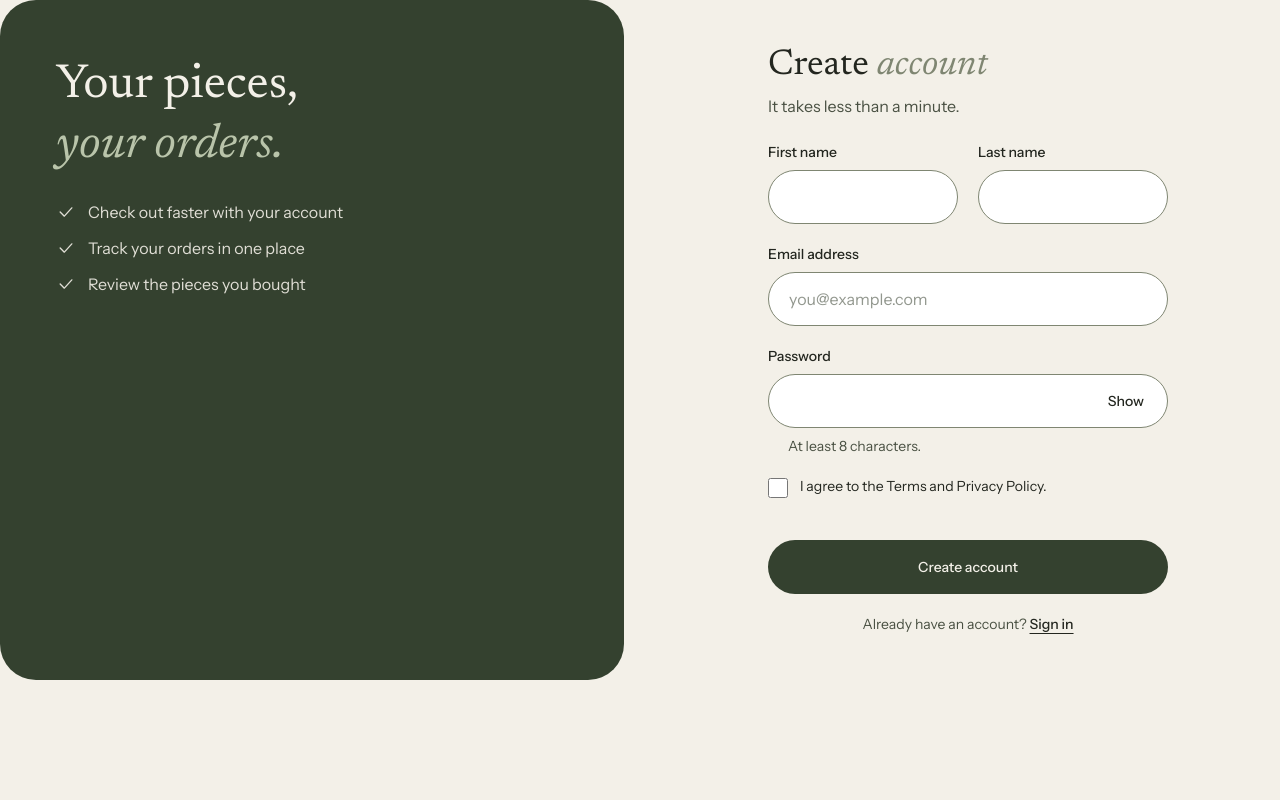
Test: RegisterPage › shows an error for an invalid email, and sends nothing
The width and height of the screenshot is (1280, 800).
Type " Anna " into the field labelled "First name". click: (863, 197)
box: x1=768 y1=170 x2=958 y2=224
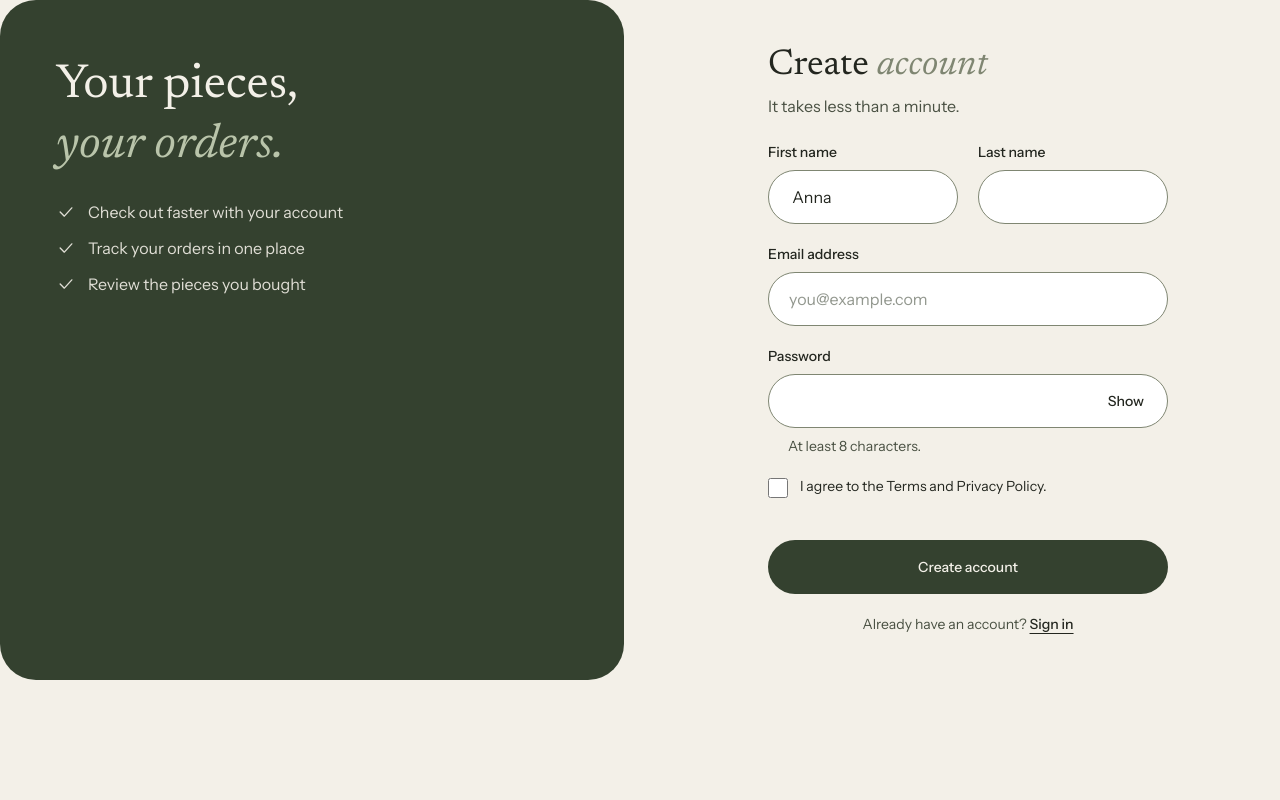
Type "Kim" into the field labelled "Last name". click: (1073, 197)
box: x1=978 y1=170 x2=1168 y2=224
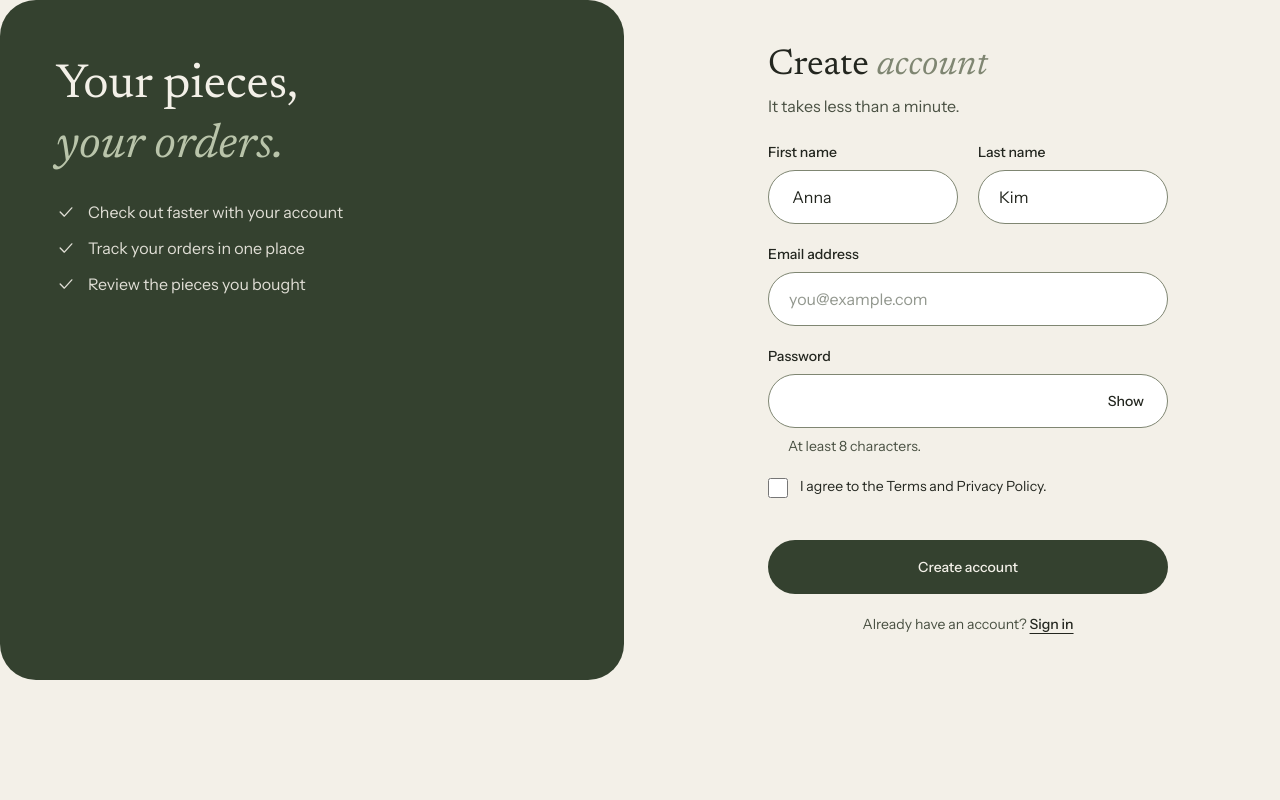
Type "anna@" into the field labelled "Email address". click: (968, 299)
box: x1=768 y1=272 x2=1168 y2=326
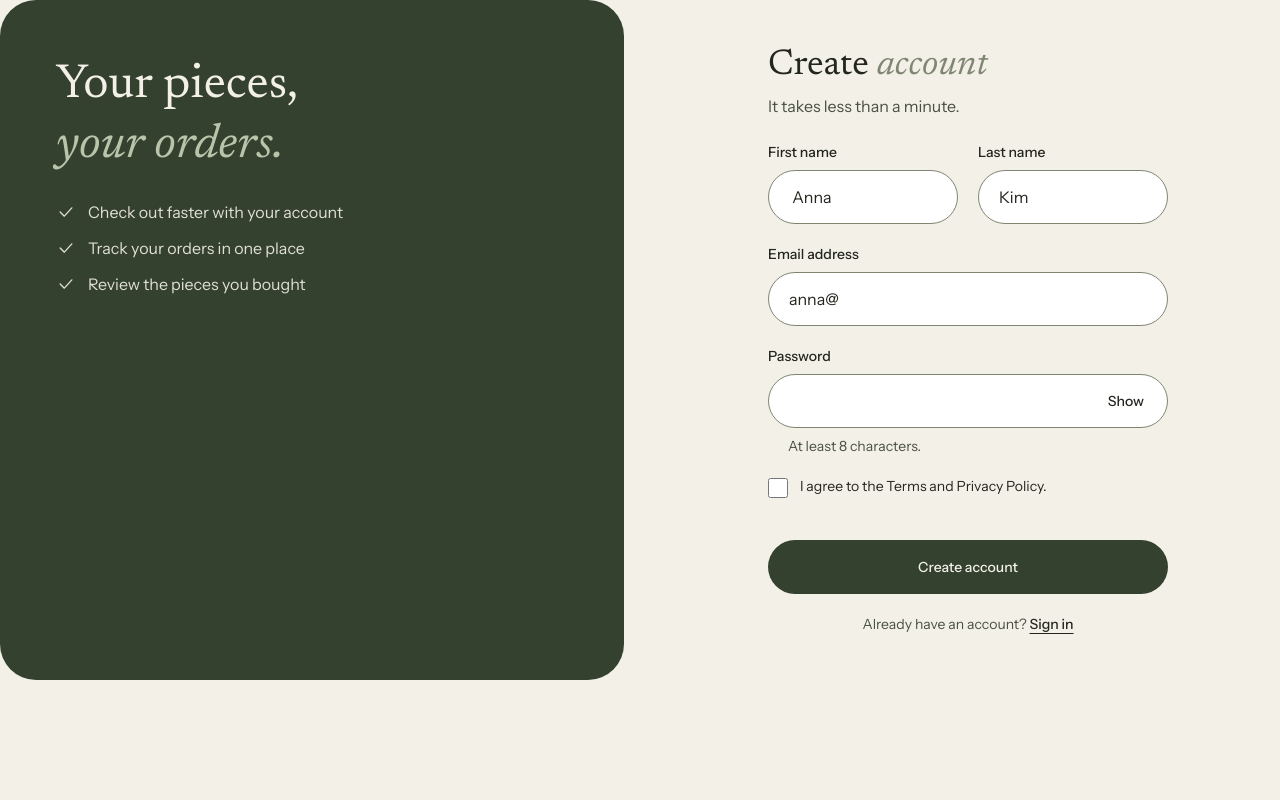
Type "password123" into the password field labelled "Password". click: (968, 401)
box: x1=768 y1=374 x2=1168 y2=428
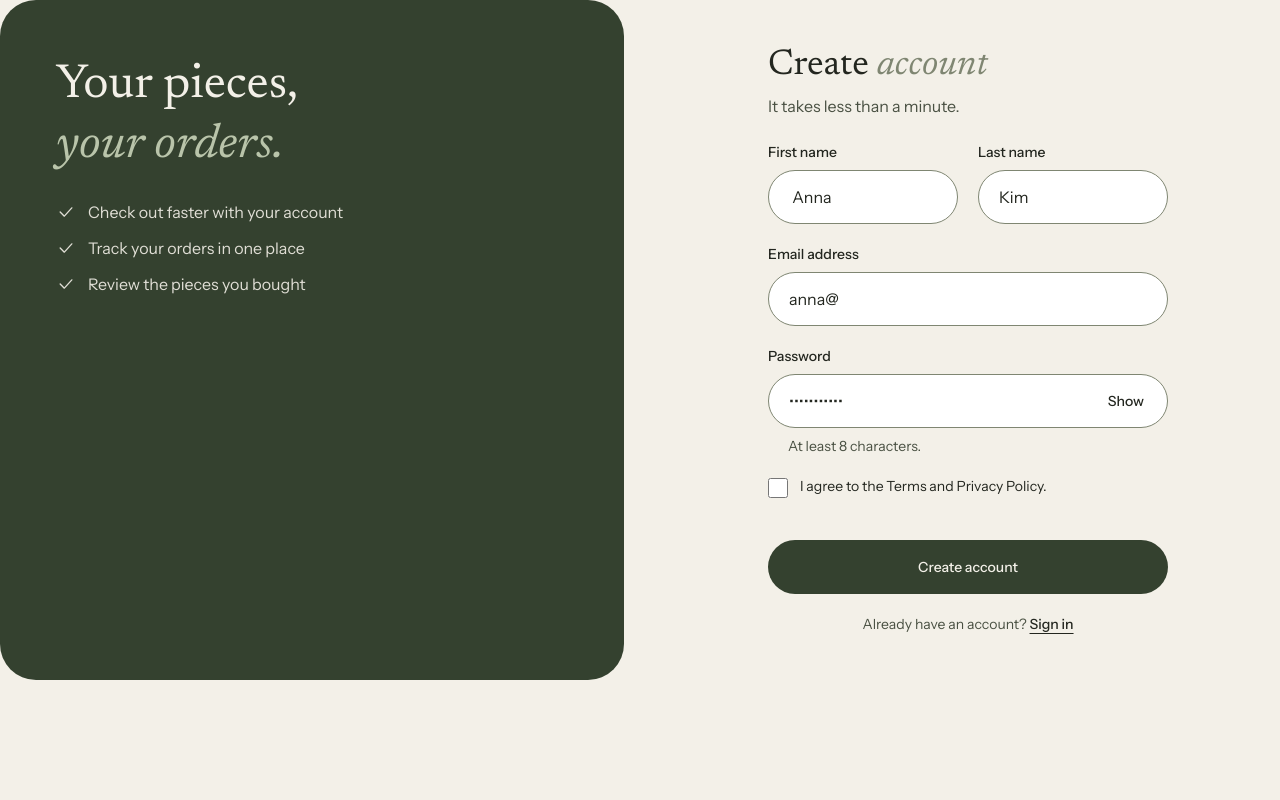
Click the checkbox labelled "I agree to the Terms and Privacy Policy.". click: (778, 488)
box: x1=768 y1=478 x2=788 y2=498
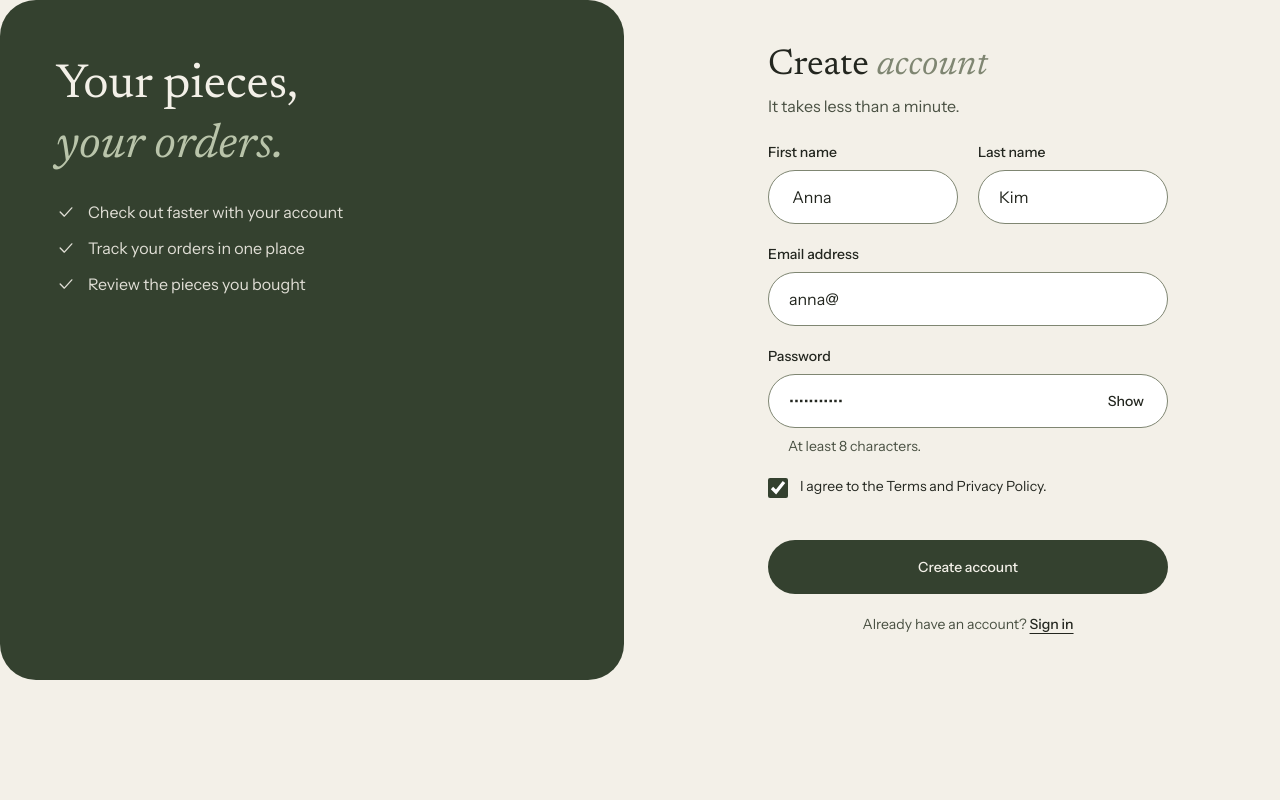
Click the button "Create account". click: (968, 567)
box: x1=768 y1=540 x2=1168 y2=594
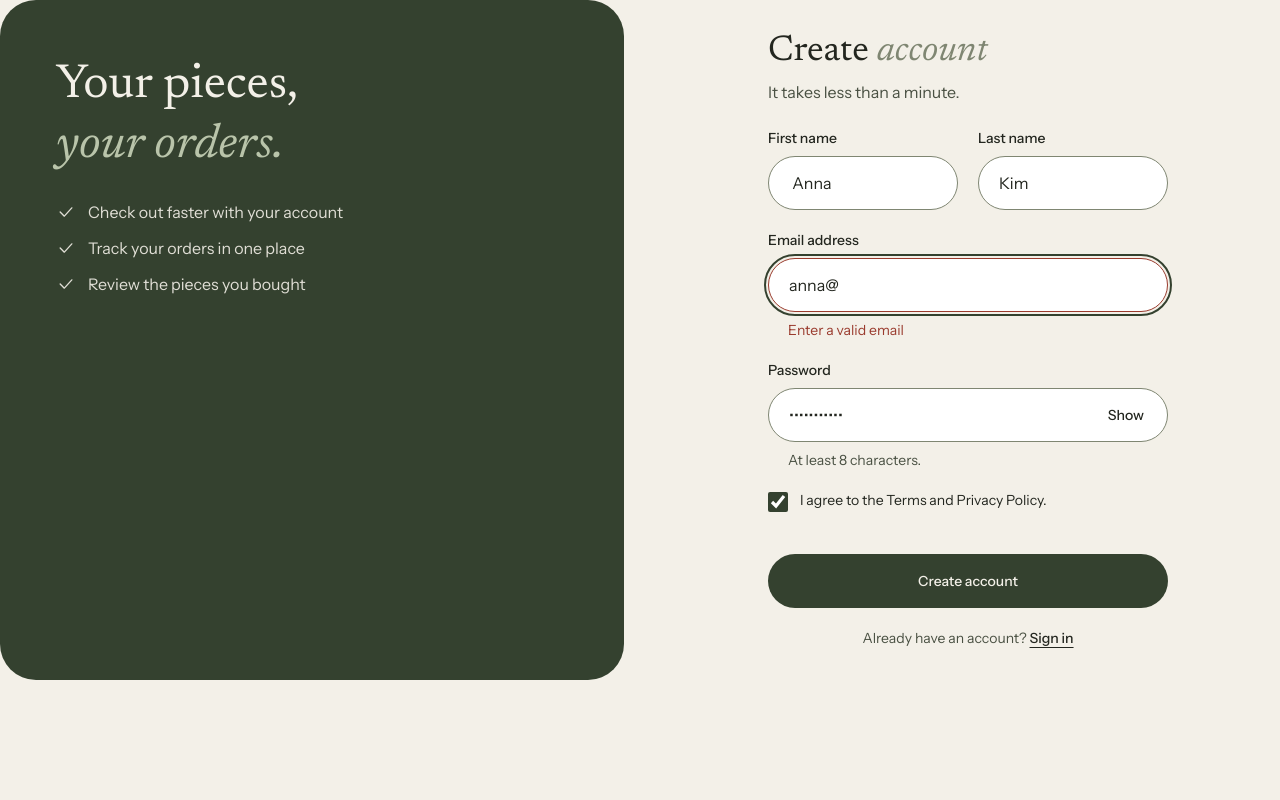
Expected: the text "Enter a valid email" is shown, x1=788 y1=321 x2=904 y2=339
